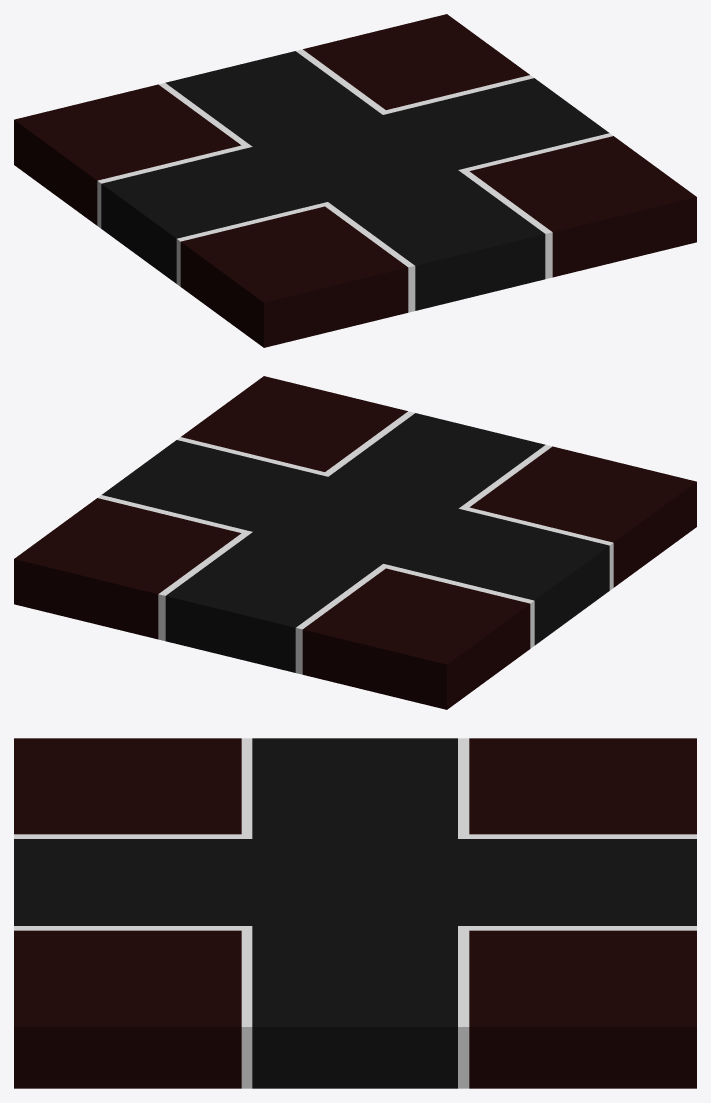
The model's file is Ground Cross.fbx.
3 renders of one model, top to bottom at view 1: azimuth 30°, elevation 25°; view 2: azimuth 150°, elevation 25°; view 3: azimuth 270°, elevation 25°, orthographic. The views are drawn at different scales.
Parts seen in each view (by area): view 1: Ground Cross; view 2: Ground Cross; view 3: Ground Cross.
Part boxes in pixels (x1=…): Ground Cross: x1=14, y1=14, x2=696, y2=347; Ground Cross: x1=14, y1=376, x2=696, y2=709; Ground Cross: x1=14, y1=738, x2=696, y2=1088.
Bounding box in the file's own units: 2000 × 200 × 2000.
